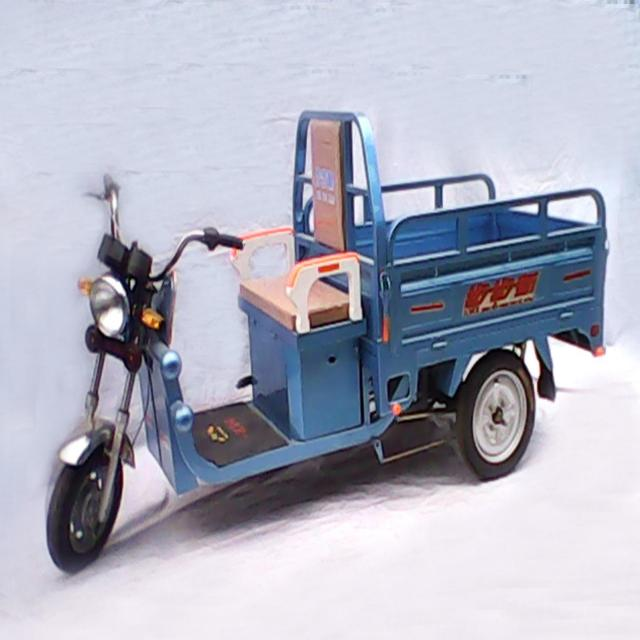tricycle: (41, 112, 606, 576)
